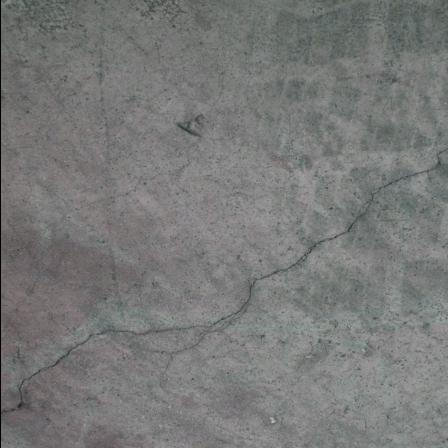crack: (0, 138, 448, 448)
